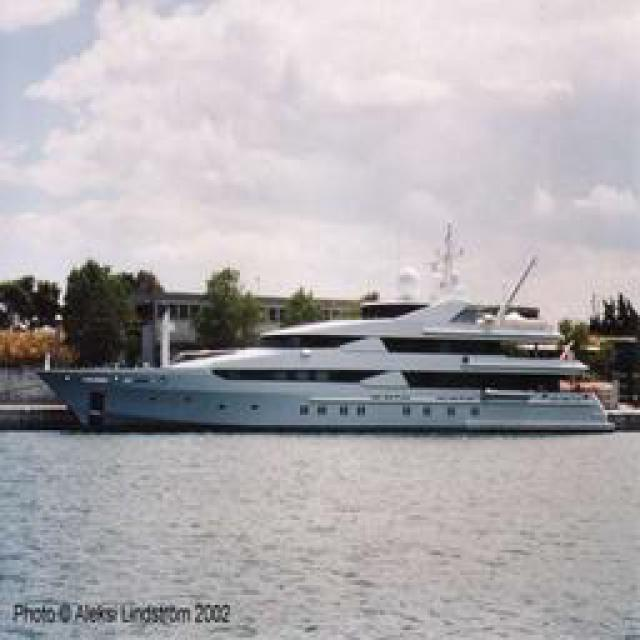Ship: (42, 254, 605, 434)
